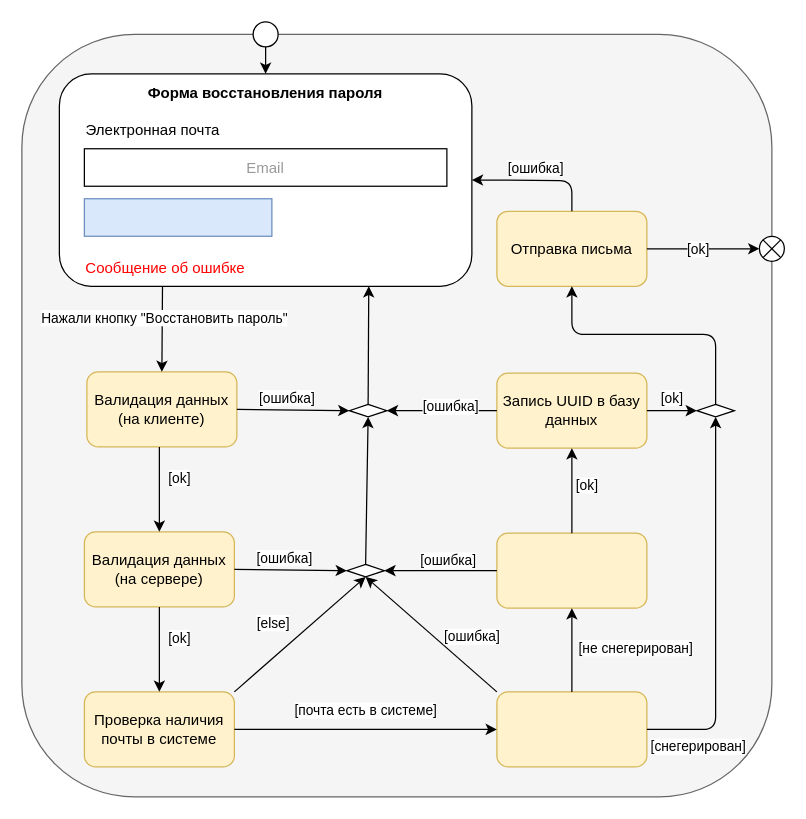
The diagram is 806 pixels wide and 819 high, and some of its shapes have lost their labels. Each missing label, with the centre of its shape:
Восстановить пароль: (177,217)
Генерация UUID: (571,570)
Проверка был ли сгенерирован UUID: (571,729)
